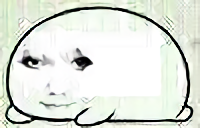dragon: (18, 51, 94, 109)
